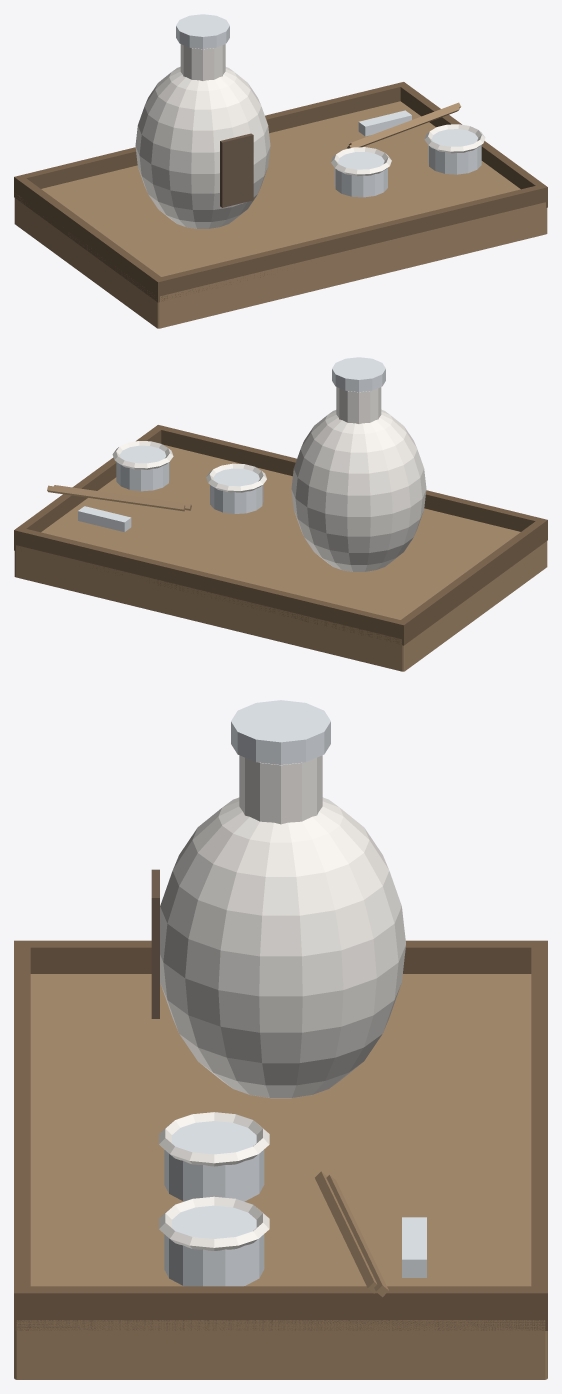
The model's file is sake_cup_set.glb.
3 views of the same model, one above another, from view 1: azimuth 30°, elevation 25°; view 2: azimuth 150°, elevation 25°; view 3: azimuth 270°, elevation 25° (orthographic). The views are drawn at different scales.
Visible parts, largest first — view 1: sake_cup_set; view 2: sake_cup_set; view 3: sake_cup_set.
Boxes of the visible parts, x1,y1,x2,y2 form: sake_cup_set: (14,14,547,328); sake_cup_set: (14,357,547,671); sake_cup_set: (14,700,547,1379).
Bounding box in the file's own units: 0.5142 × 0.2725 × 0.32.
